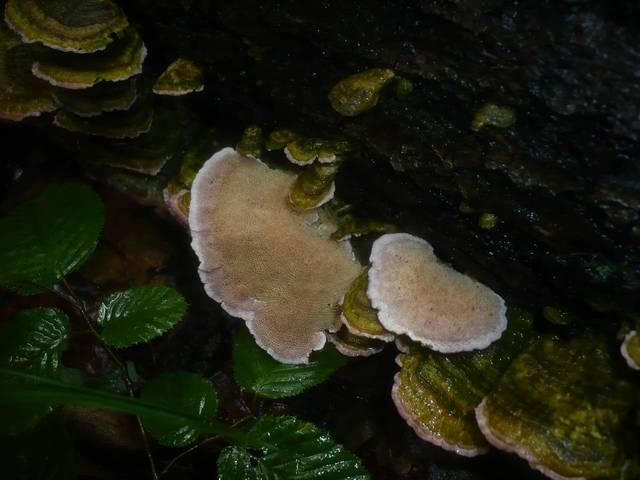poisonous_mushroom: (341, 275, 640, 480), (0, 0, 235, 186), (186, 145, 364, 365), (364, 230, 508, 354), (321, 55, 510, 137)
